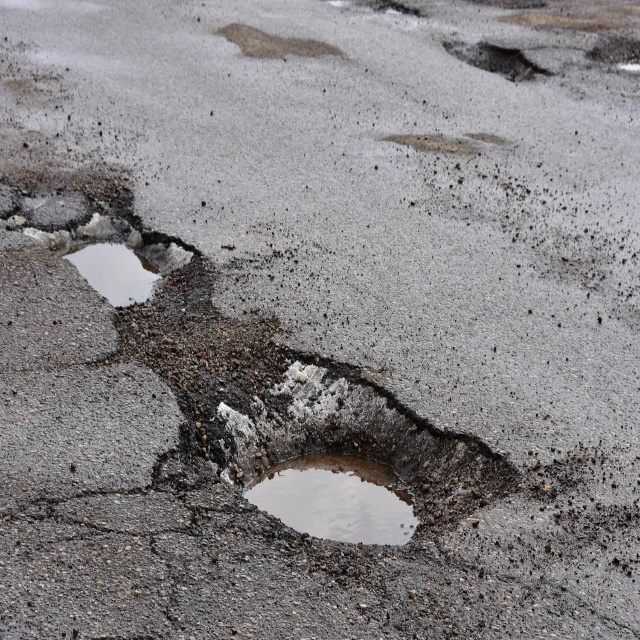pothole: (245, 462, 417, 546), (66, 244, 162, 306), (447, 44, 553, 84), (356, 1, 413, 19)
